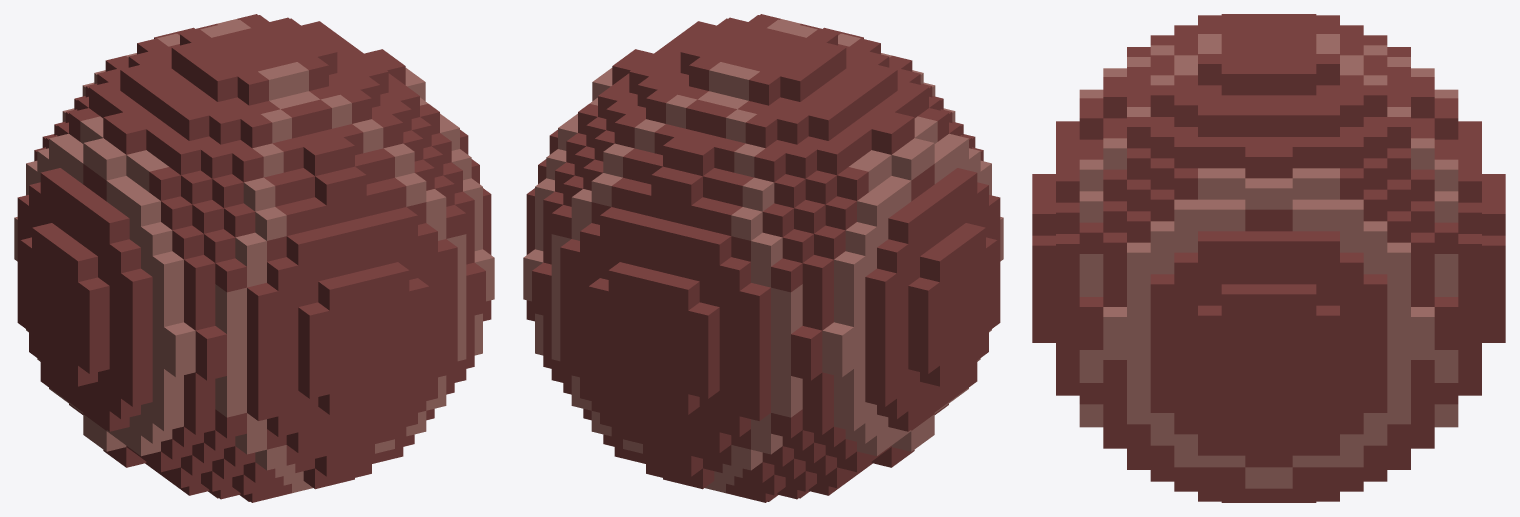
The model's file is coconut.obj.
3 views of the same model, side by side, from view 1: azimuth 30°, elevation 25°; view 2: azimuth 150°, elevation 25°; view 3: azimuth 270°, elevation 25° (orthographic). The views are drawn at different scales.
Bounding box in the file's own units: 20 × 20 × 20.
Materials: 1 (1 with a texture image).
